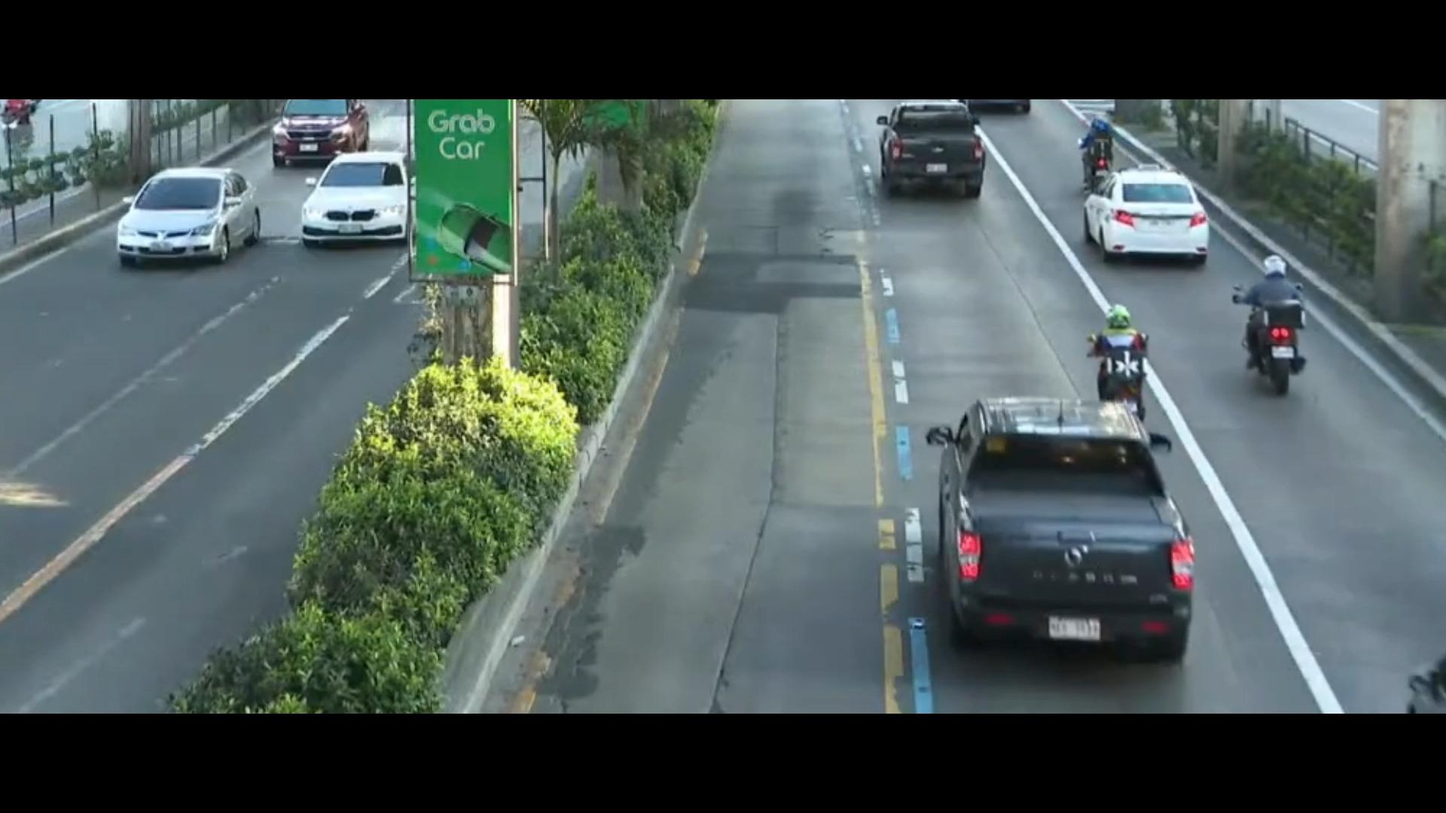Motorcycle: (1224, 251, 1334, 412), (1092, 289, 1168, 416), (1074, 111, 1140, 185)
Pickup: (884, 392, 1225, 669), (865, 94, 993, 205)
SUV: (257, 103, 369, 181)
Sedan: (102, 161, 272, 279), (1074, 159, 1243, 275), (286, 151, 427, 277)
